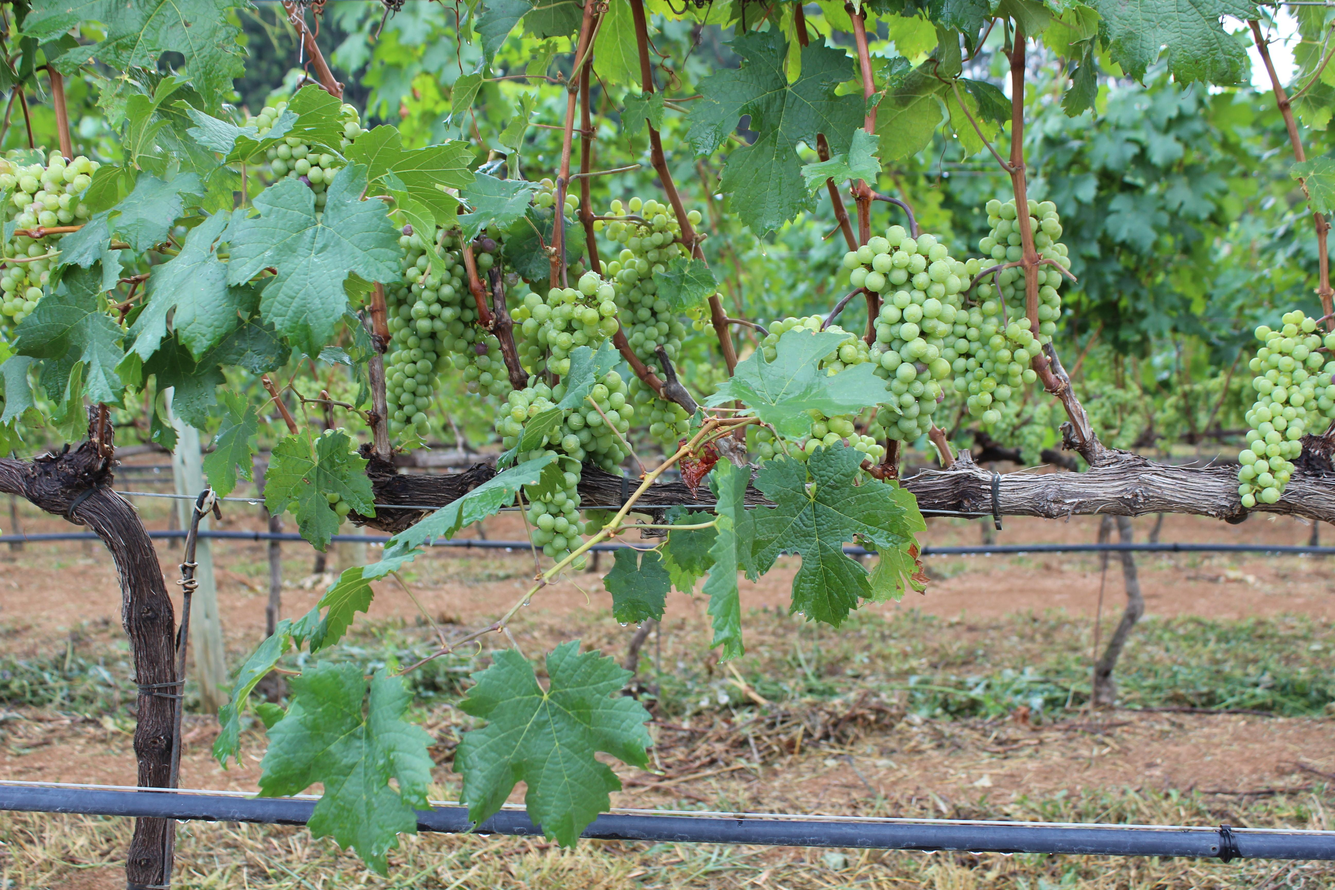leaf: (454, 641, 651, 846), (259, 662, 433, 874), (690, 29, 863, 233), (225, 165, 401, 355), (748, 443, 925, 626), (22, 0, 245, 106), (706, 328, 886, 437), (130, 212, 254, 360), (15, 264, 124, 404), (1090, 0, 1256, 84), (264, 430, 374, 550), (212, 619, 292, 768), (702, 460, 751, 659), (113, 173, 201, 252), (203, 391, 258, 496), (458, 173, 538, 240), (603, 547, 671, 623), (801, 128, 881, 192), (662, 527, 717, 594), (655, 256, 717, 312), (1290, 157, 1335, 212), (622, 92, 665, 136), (673, 511, 713, 525), (106, 79, 130, 93), (60, 385, 64, 388), (104, 97, 105, 101), (910, 495, 911, 497)
